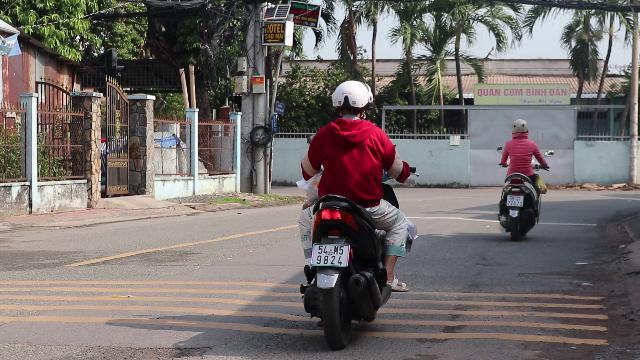helmet: (329, 80, 373, 122), (509, 118, 529, 138)
licenseplate: (310, 243, 348, 266), (507, 196, 523, 206)
motorcyclist: (289, 77, 419, 344), (494, 118, 546, 239)
